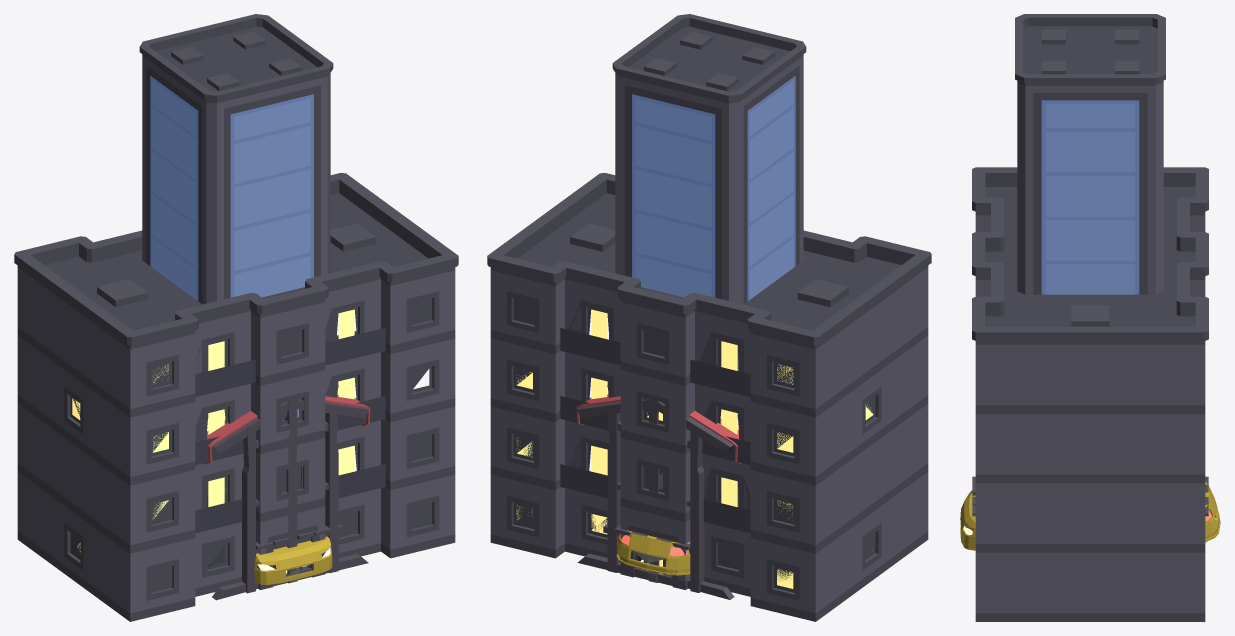
Rendered from neon-diorama.glb.
3 views of the same model, side by side, from view 1: azimuth 30°, elevation 25°; view 2: azimuth 150°, elevation 25°; view 3: azimuth 270°, elevation 25° (orthographic).
Parts seen in each view (by area): view 1: large_buildingA, skyscraperB, MarketStand_1, Taxi_Cube.009; view 2: large_buildingA, skyscraperB, MarketStand_1, Taxi_Cube.009; view 3: large_buildingA, skyscraperB, Taxi_Cube.009.
Boxes of the visible parts, x1,y1,x2,y2 form: large_buildingA: [14, 173, 458, 621]; skyscraperB: [139, 14, 333, 565]; MarketStand_1: [204, 385, 370, 600]; Taxi_Cube.009: [254, 536, 332, 584]; large_buildingA: [487, 173, 931, 621]; skyscraperB: [612, 14, 806, 559]; MarketStand_1: [576, 385, 741, 599]; Taxi_Cube.009: [616, 530, 690, 575]; large_buildingA: [972, 167, 1208, 621]; skyscraperB: [1015, 14, 1165, 294]; Taxi_Cube.009: [960, 482, 1220, 550].
Size of the model in its own units: 0.3 by 0.42 by 0.2.
Materials: 24 (3 with a texture image).
